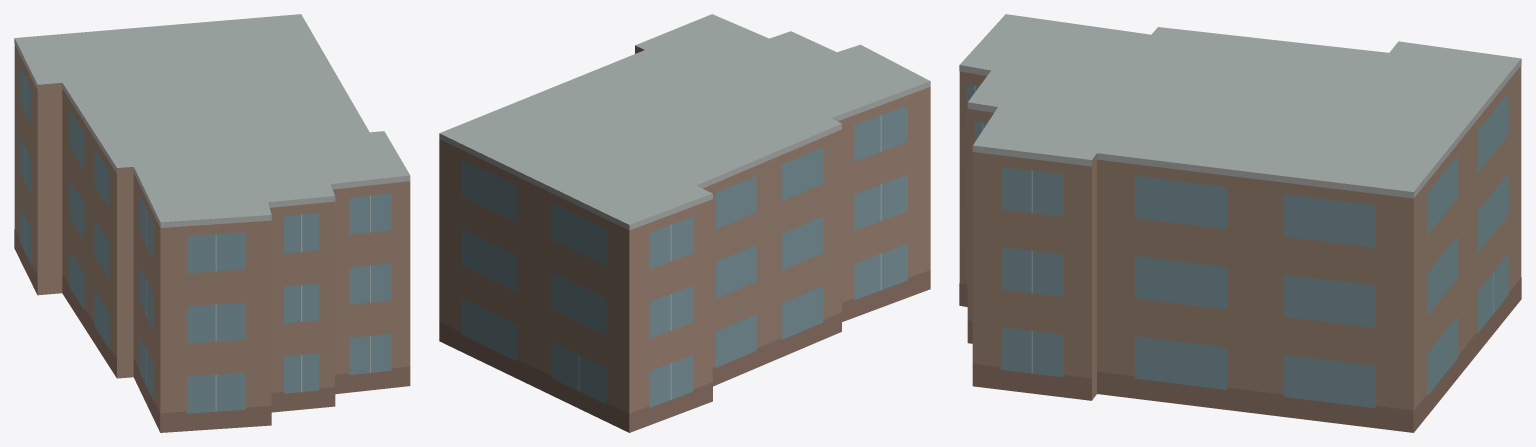
The model's file is survey-upis-32663502.glb.
3 renders of one model, left to right at view 1: azimuth 30°, elevation 25°; view 2: azimuth 150°, elevation 25°; view 3: azimuth 270°, elevation 25°, orthographic. The views are drawn at different scales.
Visible parts, largest first — view 1: survey-upis-32663502.tmp; view 2: survey-upis-32663502.tmp; view 3: survey-upis-32663502.tmp.
Boxes of the visible parts, left/top/right/bottom form: survey-upis-32663502.tmp: left=14, top=14, right=410, bottom=432; survey-upis-32663502.tmp: left=439, top=14, right=930, bottom=432; survey-upis-32663502.tmp: left=959, top=14, right=1521, bottom=432.
Size of the model in its own units: 14.53 by 9.15 by 19.37.
